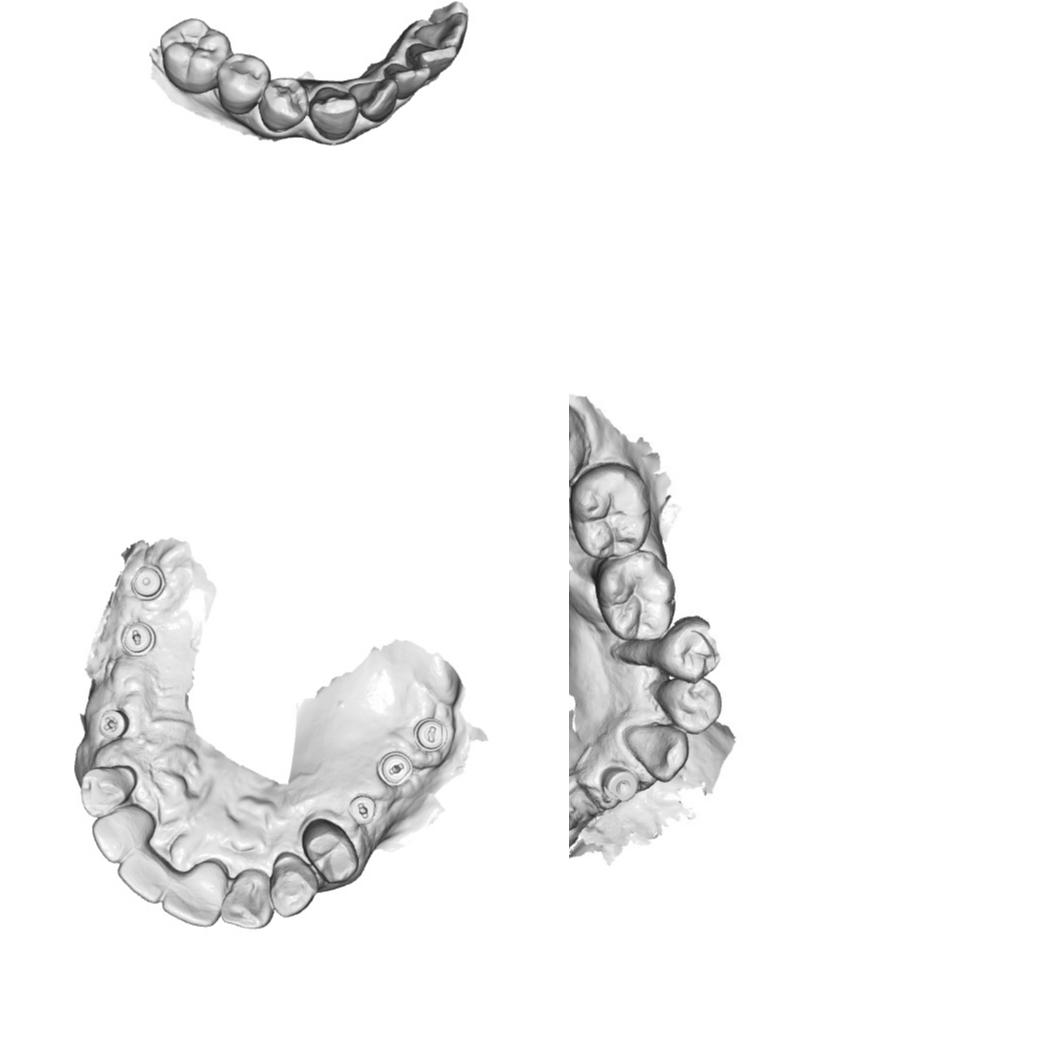canine: (620, 719, 689, 782), (269, 850, 319, 919), (78, 763, 138, 818), (308, 79, 359, 141)
implant: (130, 562, 166, 601), (607, 769, 642, 805)
implant_minus: (376, 750, 413, 787), (412, 716, 448, 753), (120, 621, 156, 657), (347, 794, 377, 825)
implant_plus: (97, 708, 130, 740)
incisor: (162, 859, 227, 928), (91, 803, 155, 864), (220, 867, 275, 930), (117, 847, 172, 904), (410, 11, 471, 52), (350, 76, 399, 124), (404, 42, 459, 80), (385, 59, 434, 100)
molar: (574, 470, 646, 560), (603, 556, 675, 643), (157, 13, 231, 95)
premolar: (649, 618, 715, 678), (300, 816, 358, 884), (657, 671, 716, 733), (215, 51, 267, 113), (261, 71, 311, 134)
